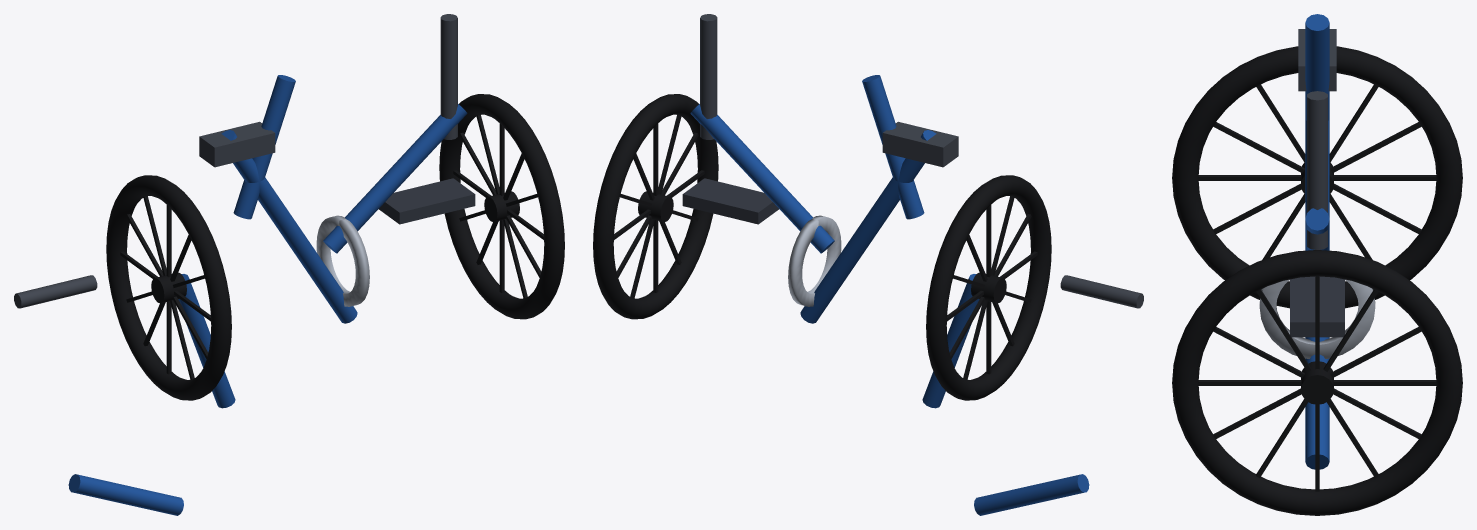
The picture shows the model from 3 angles, left to right: view 1: azimuth 30°, elevation 25°; view 2: azimuth 150°, elevation 25°; view 3: azimuth 270°, elevation 25°; orthographic projection. The views are drawn at different scales.
Parts seen in each view (by area): view 1: Bicicleta eléctrica plegable; view 2: Bicicleta eléctrica plegable; view 3: Bicicleta eléctrica plegable.
Boxes of the visible parts, bbox=[...] form: Bicicleta eléctrica plegable: bbox=[14, 14, 564, 515]; Bicicleta eléctrica plegable: bbox=[593, 14, 1143, 515]; Bicicleta eléctrica plegable: bbox=[1172, 14, 1462, 515].
Size of the model in its own units: 1 by 0.8304 by 0.4031.
